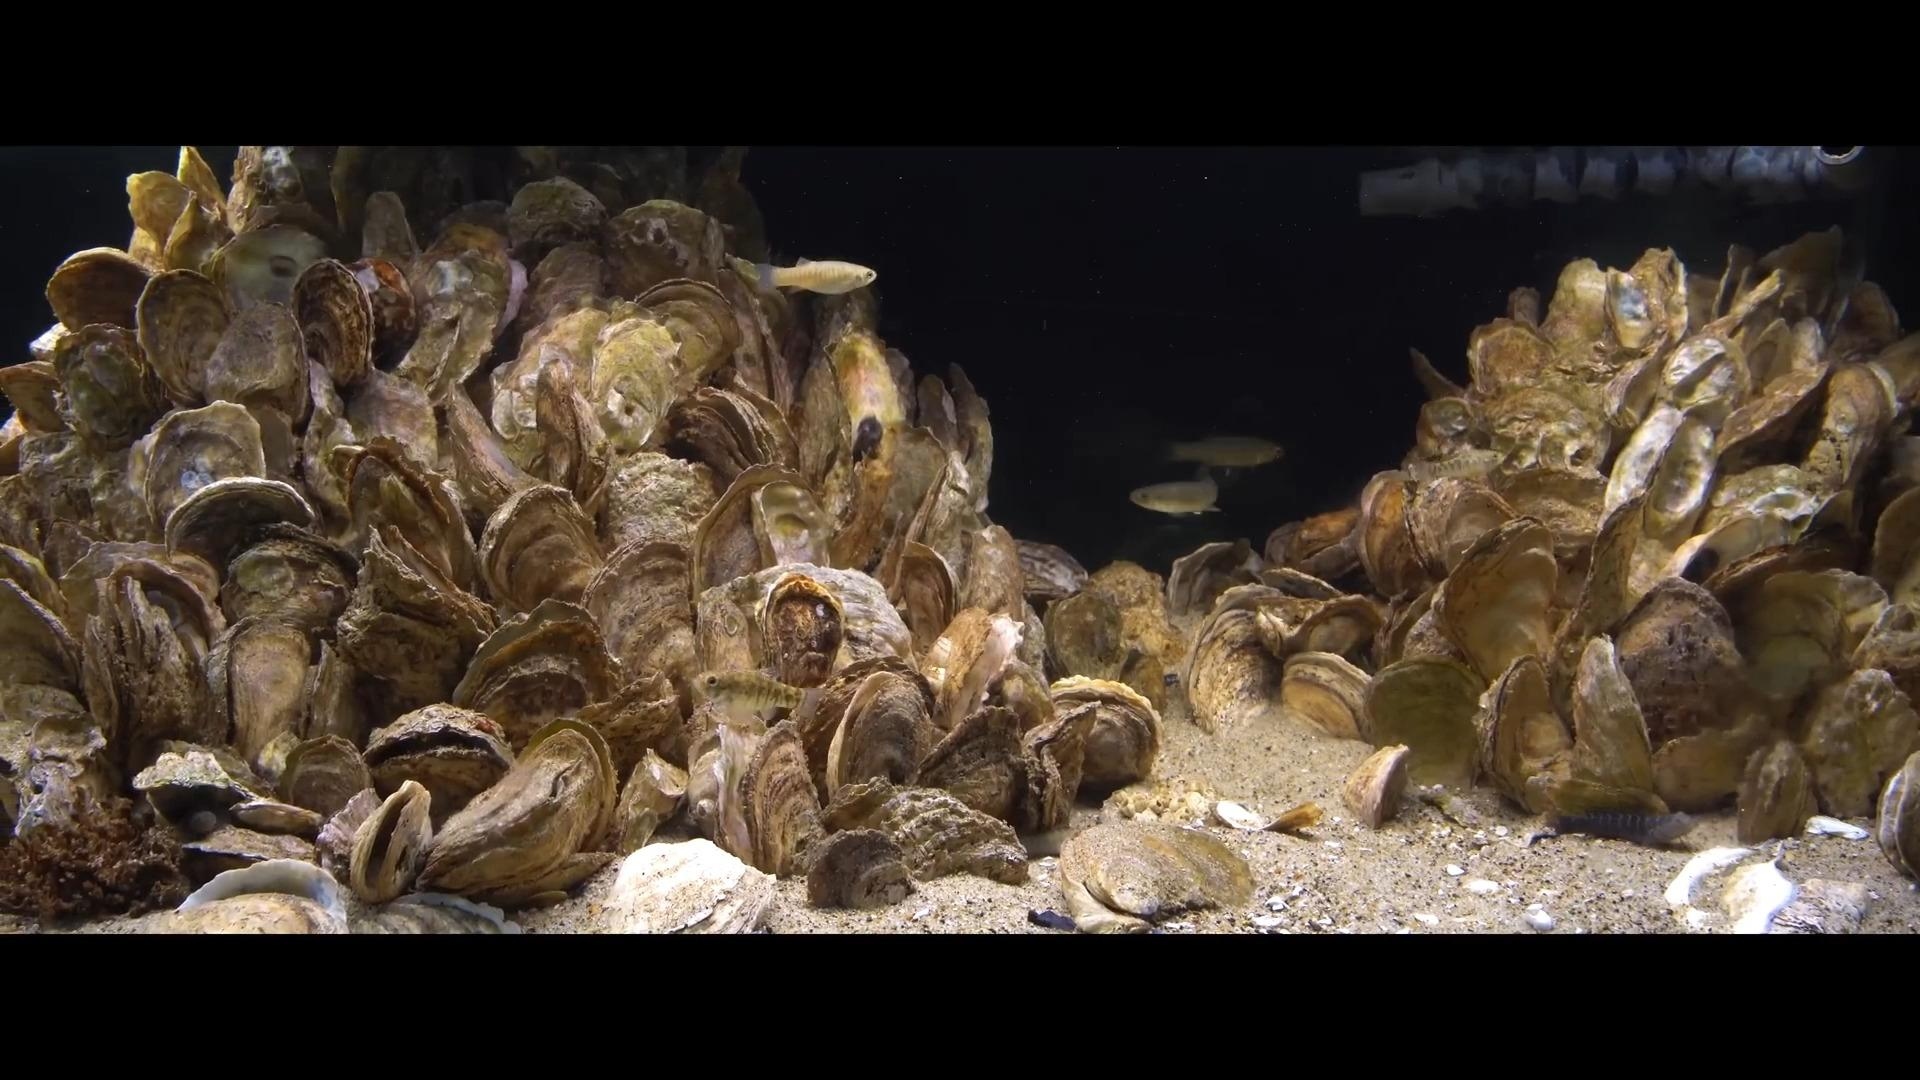Oyster: (410, 715, 622, 903), (330, 530, 493, 708), (1606, 574, 1750, 754), (327, 439, 485, 595), (1435, 512, 1568, 692), (1609, 413, 1722, 605), (1725, 564, 1867, 709), (583, 533, 703, 703), (688, 460, 827, 603), (396, 241, 513, 401), (1793, 669, 1915, 823), (1671, 463, 1829, 579), (138, 401, 277, 531), (140, 746, 318, 847), (1560, 634, 1662, 808), (359, 702, 510, 818), (477, 481, 607, 617), (1552, 496, 1648, 675), (916, 703, 1047, 832), (162, 475, 322, 580), (621, 274, 750, 404), (865, 785, 1026, 886), (214, 524, 353, 640), (458, 646, 604, 757), (90, 553, 223, 671), (1364, 658, 1487, 785), (434, 377, 545, 518), (218, 613, 314, 773), (584, 313, 688, 459), (335, 361, 451, 492), (1477, 651, 1569, 815), (202, 293, 311, 429), (1465, 376, 1606, 480), (737, 715, 825, 880), (1712, 344, 1832, 464), (665, 380, 793, 492), (825, 673, 938, 798), (51, 324, 164, 450), (136, 266, 232, 411), (866, 418, 956, 574), (1403, 471, 1523, 587), (1795, 359, 1891, 502), (599, 448, 725, 556), (923, 605, 1031, 729), (1698, 531, 1851, 615), (570, 675, 688, 781), (604, 195, 731, 294), (290, 256, 376, 394), (1187, 608, 1283, 729), (1648, 720, 1771, 815), (1131, 819, 1255, 913), (345, 779, 435, 909), (1742, 224, 1849, 332), (0, 564, 83, 703), (876, 534, 961, 663), (529, 360, 605, 504), (1018, 704, 1106, 828), (11, 429, 105, 543), (41, 247, 158, 339), (224, 144, 334, 243), (1486, 465, 1615, 547), (214, 222, 330, 313), (795, 326, 855, 496), (803, 828, 916, 915), (1044, 582, 1137, 686), (272, 732, 373, 824), (952, 516, 1029, 637), (8, 754, 104, 851), (174, 823, 318, 886), (764, 576, 843, 687), (1279, 650, 1375, 740), (1737, 737, 1816, 845), (505, 175, 611, 256), (124, 166, 208, 266), (828, 451, 897, 574), (1276, 593, 1387, 669), (1530, 775, 1671, 833), (1356, 469, 1418, 599), (943, 360, 994, 509), (1542, 251, 1615, 353), (1716, 849, 1804, 932), (311, 785, 385, 884), (1762, 870, 1875, 934), (351, 255, 419, 359), (1263, 509, 1362, 580), (301, 636, 363, 749), (1468, 319, 1556, 397), (1866, 475, 1920, 601), (1164, 541, 1250, 620), (1664, 343, 1745, 425), (368, 889, 512, 934), (1342, 744, 1414, 832), (0, 680, 88, 749), (683, 731, 735, 847), (1854, 599, 1920, 687), (1875, 756, 1920, 884), (0, 363, 71, 440), (820, 775, 899, 843), (173, 144, 229, 235), (1013, 538, 1089, 605), (1602, 262, 1659, 352), (694, 877, 779, 934), (360, 190, 419, 266), (1415, 393, 1482, 459), (1254, 564, 1341, 605), (1406, 345, 1465, 405), (1251, 604, 1300, 659)
